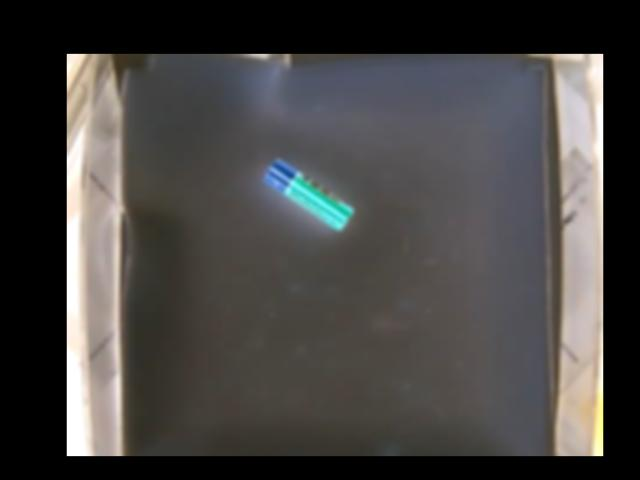Battery: (262, 156, 355, 230)
